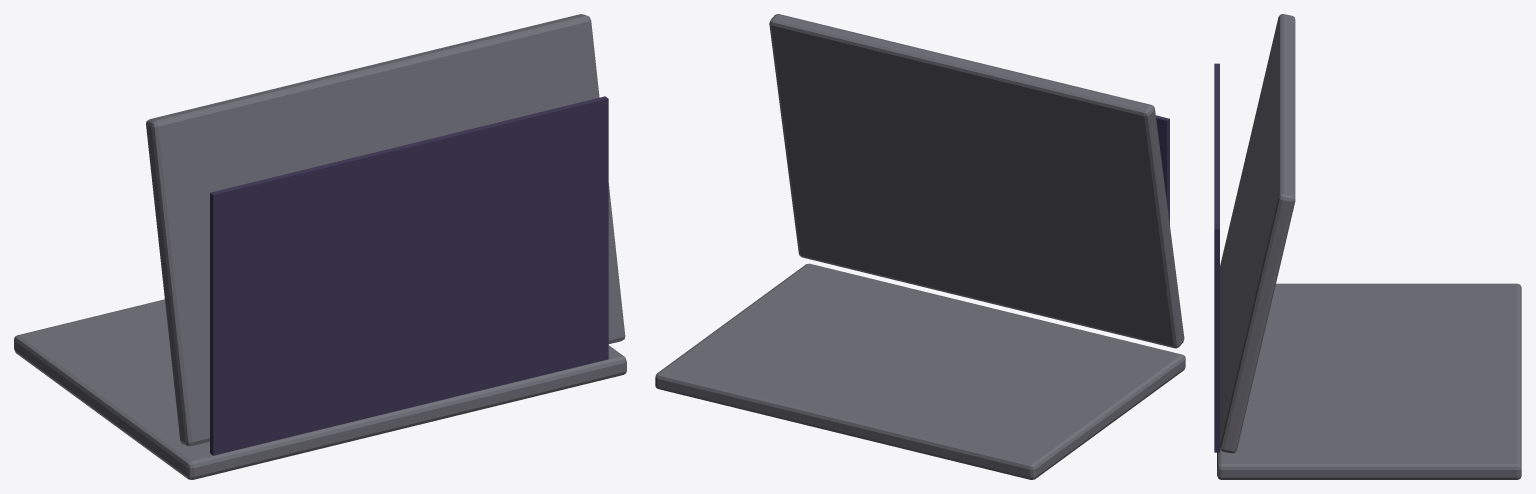
Rendered from laptop.glb.
3 renders of one model, left to right at view 1: azimuth 30°, elevation 25°; view 2: azimuth 150°, elevation 25°; view 3: azimuth 270°, elevation 25°, orthographic. The views are drawn at different scales.
Parts seen in each view (by area): view 1: laptop.glb; view 2: laptop.glb; view 3: laptop.glb.
Part boxes in pixels (x1,y1,x2,y2): laptop.glb: [14, 14, 626, 479]; laptop.glb: [655, 14, 1185, 479]; laptop.glb: [1214, 14, 1521, 479].
Size of the model in its own units: 0.3 by 0.217 by 0.212.
